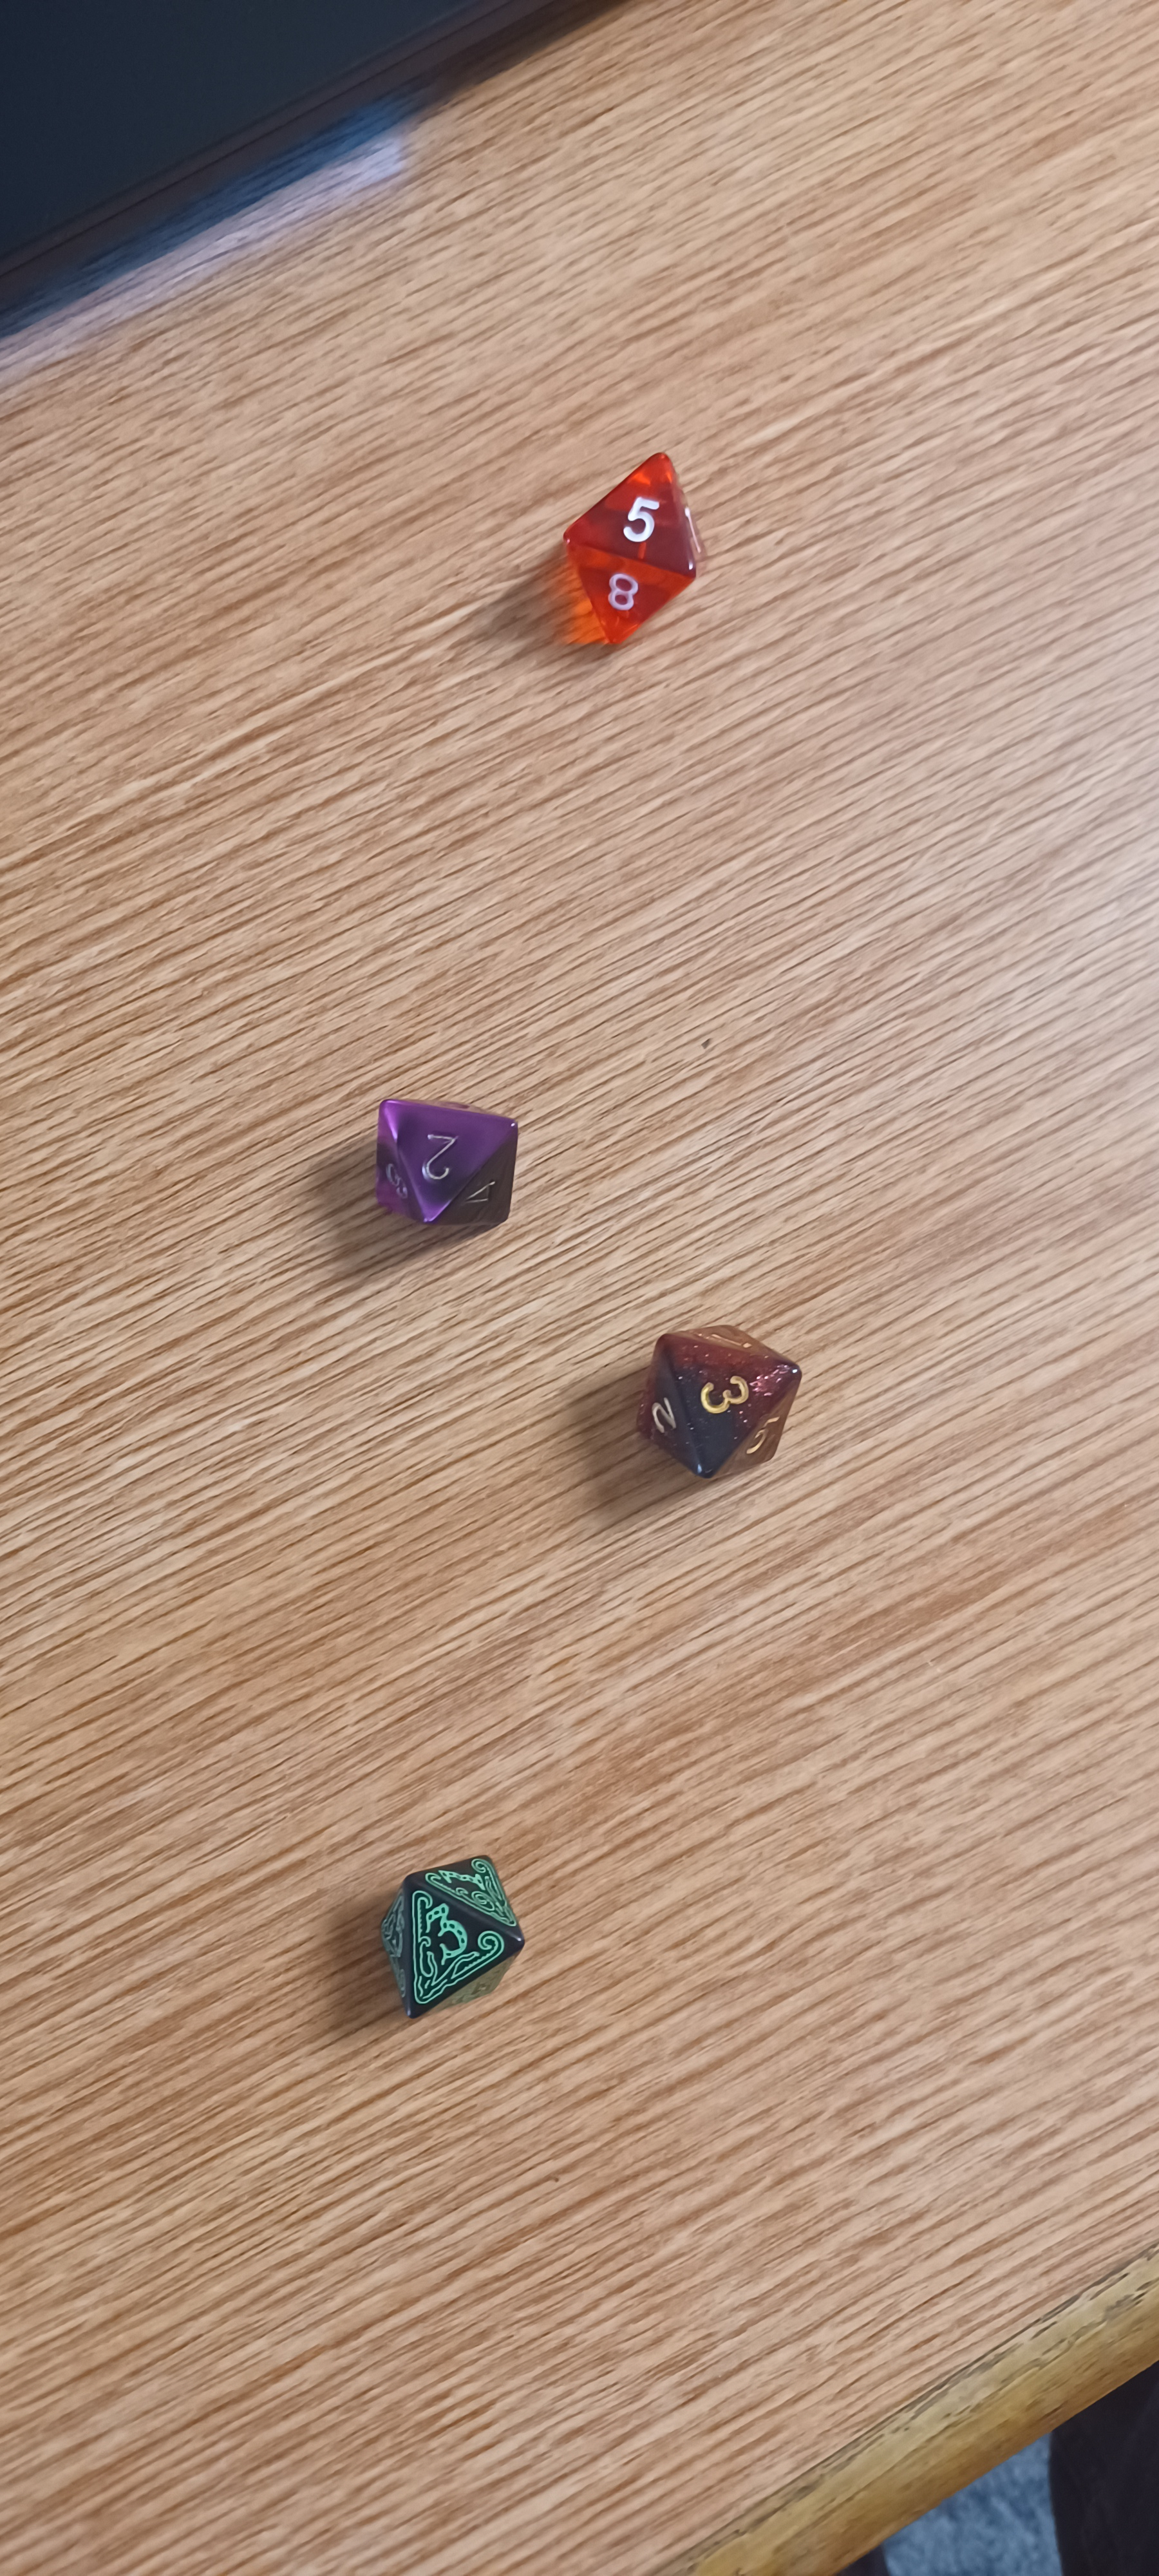five: (491, 417, 783, 674)
three: (315, 1794, 586, 2037), (609, 1309, 827, 1508)
two: (332, 1046, 558, 1280)
